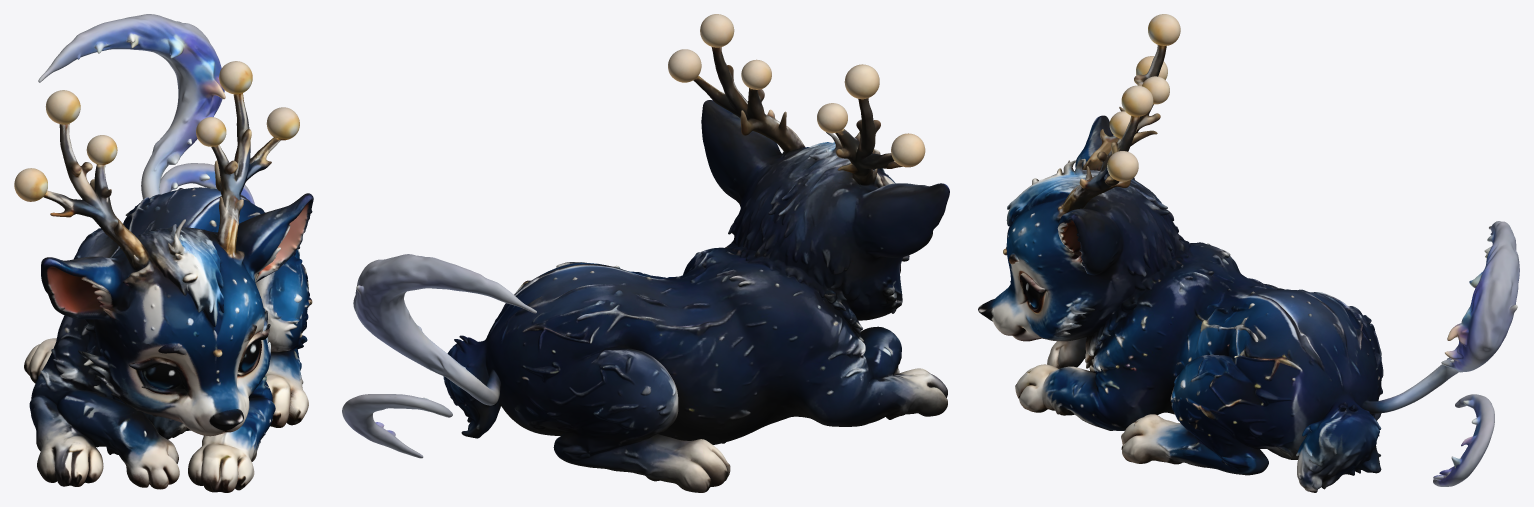
The model's file is stage_i.glb.
The picture shows the model from 3 angles, left to right: view 1: azimuth 30°, elevation 25°; view 2: azimuth 150°, elevation 25°; view 3: azimuth 270°, elevation 25°; orthographic projection. The views are drawn at different scales.
Visible parts, largest first — view 1: tripo_node_3c06628a-84bf-4faa-b871-ebef6439453c; view 2: tripo_node_3c06628a-84bf-4faa-b871-ebef6439453c; view 3: tripo_node_3c06628a-84bf-4faa-b871-ebef6439453c.
Part boxes in pixels (x1=…): tripo_node_3c06628a-84bf-4faa-b871-ebef6439453c: x1=14, y1=14, x2=313, y2=492; tripo_node_3c06628a-84bf-4faa-b871-ebef6439453c: x1=342, y1=14, x2=949, y2=492; tripo_node_3c06628a-84bf-4faa-b871-ebef6439453c: x1=978, y1=14, x2=1519, y2=492.
Bounding box in the file's own units: 0.8087 × 0.7129 × 1.
1 material, 1 textured.
